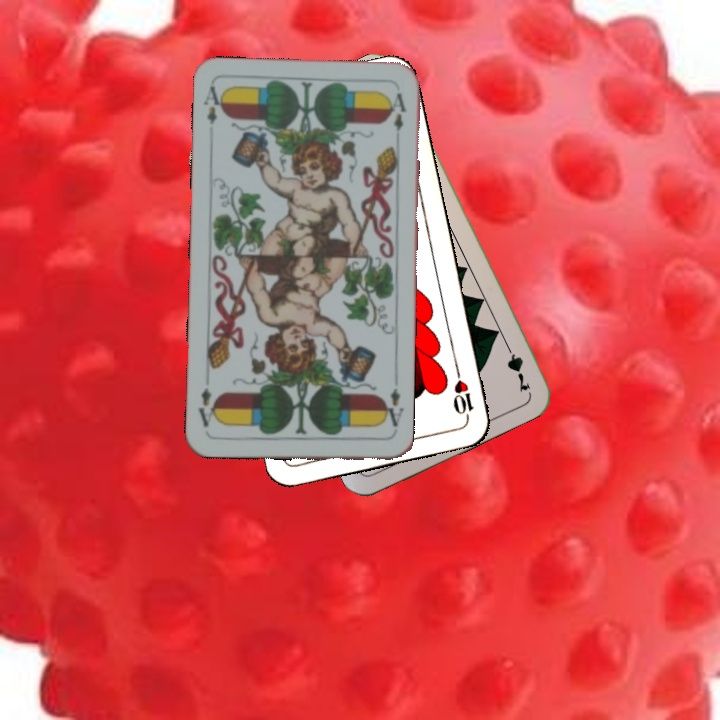EA: (378, 384, 405, 429), (200, 82, 227, 127)
G7: (500, 337, 534, 395)
H10: (449, 363, 477, 422)
